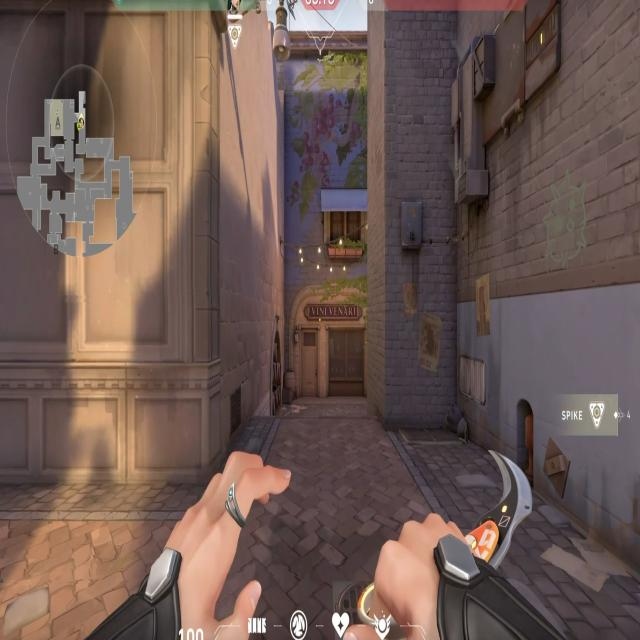Wine: (265, 253, 395, 420)
